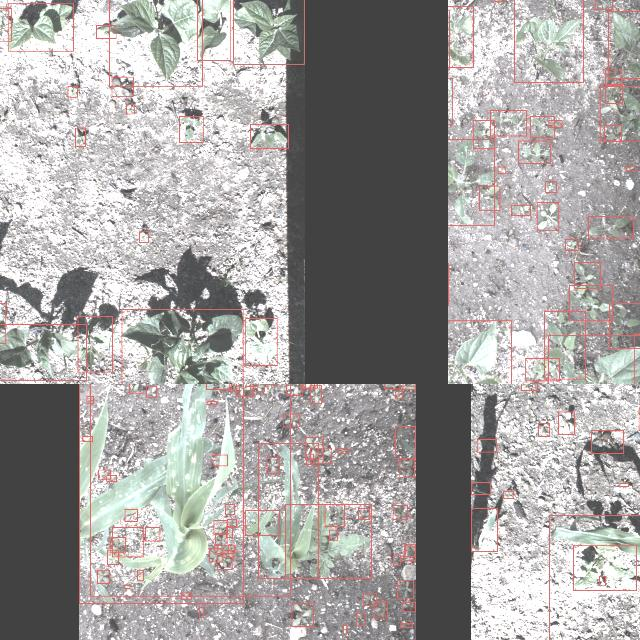crop: (89, 384, 290, 595), (78, 384, 243, 603), (548, 514, 640, 640), (121, 309, 242, 384), (258, 442, 318, 578), (108, 0, 201, 86), (513, 0, 582, 81), (0, 323, 86, 379), (547, 334, 640, 384), (233, 0, 304, 63), (448, 319, 511, 384), (7, 4, 73, 51), (608, 10, 640, 77), (76, 315, 112, 371), (197, 0, 231, 59), (448, 5, 473, 66), (246, 317, 276, 365), (470, 507, 496, 551), (395, 426, 415, 458), (470, 482, 490, 494), (402, 384, 415, 388)
weed: (285, 504, 371, 578), (448, 139, 494, 225), (572, 544, 636, 590), (544, 310, 584, 378), (599, 85, 640, 140), (568, 284, 612, 320), (609, 302, 640, 347), (588, 215, 632, 237), (111, 526, 142, 556), (250, 124, 288, 148), (490, 110, 526, 134), (244, 510, 280, 534), (525, 358, 559, 380), (518, 140, 550, 162), (591, 430, 623, 452), (574, 262, 600, 288), (179, 116, 203, 142), (536, 202, 558, 230), (472, 120, 494, 148), (291, 602, 313, 626), (530, 115, 554, 136), (478, 185, 499, 209), (324, 504, 344, 526), (111, 76, 132, 95), (305, 436, 323, 458), (0, 7, 11, 40), (310, 447, 332, 463), (558, 411, 574, 433), (606, 85, 622, 104), (604, 68, 622, 84), (604, 125, 622, 141), (397, 580, 413, 598), (95, 24, 115, 38), (476, 438, 496, 452), (400, 458, 414, 477), (109, 536, 125, 552), (216, 553, 232, 569), (510, 204, 530, 216), (373, 601, 387, 617), (144, 526, 160, 540), (392, 505, 408, 519), (266, 456, 280, 472), (235, 384, 253, 396), (75, 126, 85, 146), (208, 548, 222, 562), (213, 520, 227, 534), (404, 544, 416, 560), (212, 454, 228, 466), (448, 77, 452, 123), (95, 569, 108, 583), (310, 385, 320, 403), (286, 384, 302, 395), (564, 238, 578, 250), (363, 593, 377, 605), (106, 550, 118, 564), (284, 414, 298, 426), (594, 0, 612, 8), (124, 509, 136, 521), (214, 533, 226, 545), (538, 422, 548, 436), (128, 384, 145, 392), (205, 384, 230, 389), (138, 230, 148, 242), (546, 180, 556, 192), (405, 544, 415, 556), (402, 602, 416, 610), (358, 508, 369, 518), (97, 469, 109, 478), (249, 384, 264, 391), (67, 86, 77, 96), (328, 529, 338, 539), (146, 386, 156, 396), (356, 613, 364, 625), (224, 504, 233, 514), (548, 120, 562, 126), (126, 103, 134, 113), (393, 554, 401, 564), (226, 519, 236, 527), (305, 453, 313, 463), (503, 490, 513, 498), (520, 384, 536, 389), (400, 622, 412, 628), (497, 166, 505, 174), (198, 607, 204, 617), (181, 592, 191, 598), (136, 569, 142, 579), (223, 550, 233, 556), (226, 526, 232, 536), (106, 475, 116, 481), (384, 384, 399, 388), (229, 384, 239, 390), (599, 575, 605, 585), (300, 384, 317, 387), (228, 544, 234, 552), (396, 390, 402, 398), (343, 624, 347, 634), (337, 448, 347, 452), (81, 436, 91, 440), (304, 384, 313, 388), (86, 396, 92, 402), (626, 166, 634, 170), (620, 482, 628, 486), (206, 401, 216, 404), (124, 584, 128, 588), (214, 544, 216, 550)
